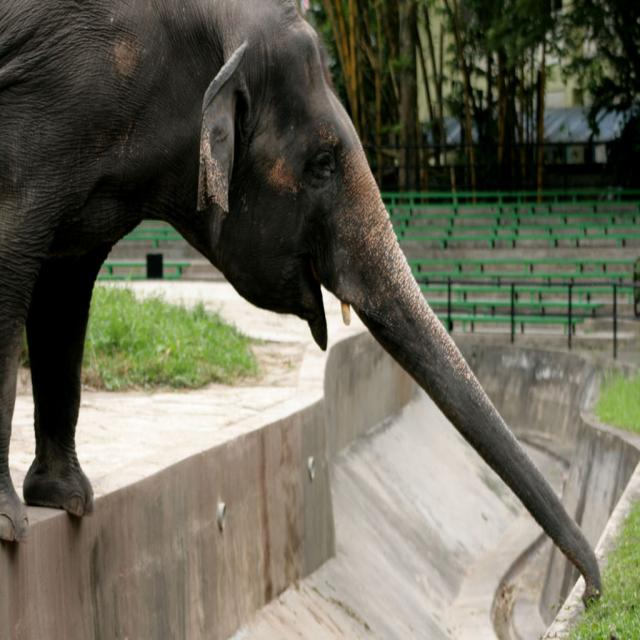Elephant: (0, 0, 603, 608)
